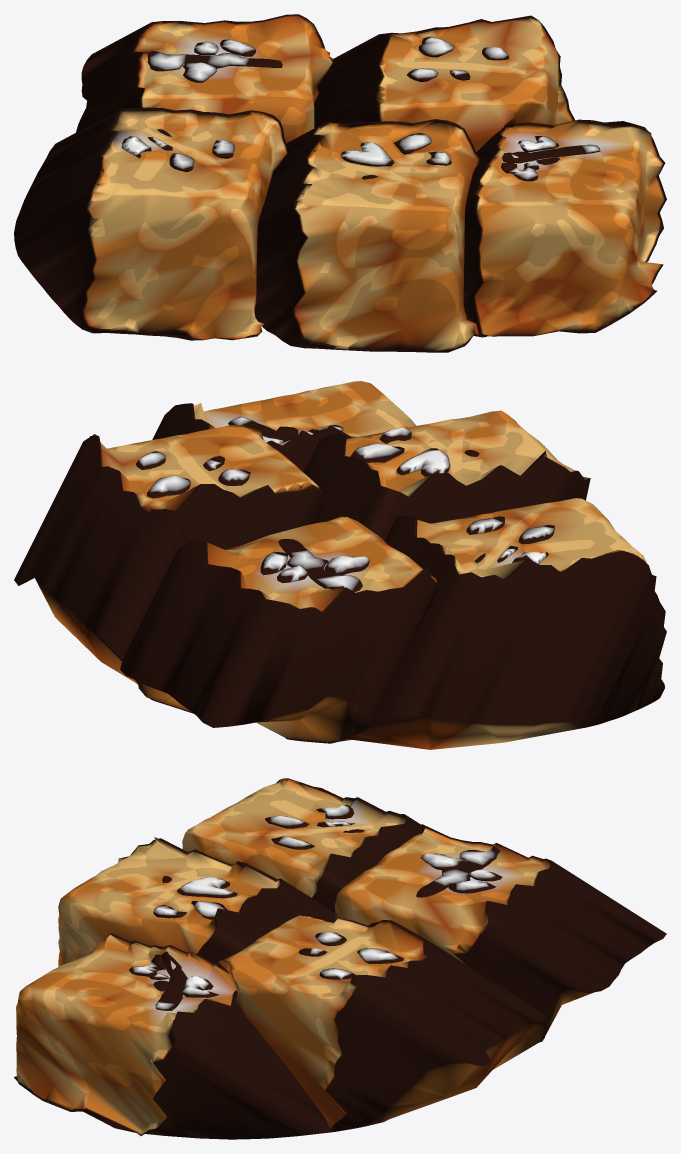
File: SM_D05_wok.fbx
The picture shows the model from 3 angles, top to bottom: view 1: azimuth 30°, elevation 25°; view 2: azimuth 150°, elevation 25°; view 3: azimuth 270°, elevation 25°; orthographic projection. The views are drawn at different scales.
Parts seen in each view (by area): view 1: SM_D05_wok; view 2: SM_D05_wok; view 3: SM_D05_wok.
Part boxes in pixels (x1,y1,x2,y2): SM_D05_wok: (14,14,666,352); SM_D05_wok: (14,381,666,749); SM_D05_wok: (14,778,666,1139).
Size of the model in its own units: 0.1689 by 0.0508 by 0.1897.
